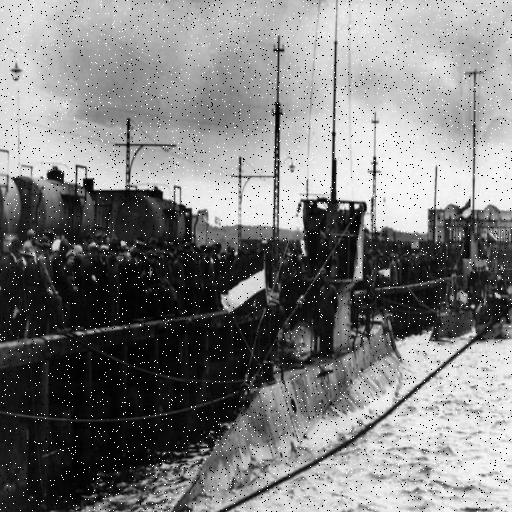submarine: (160, 199, 403, 512)
